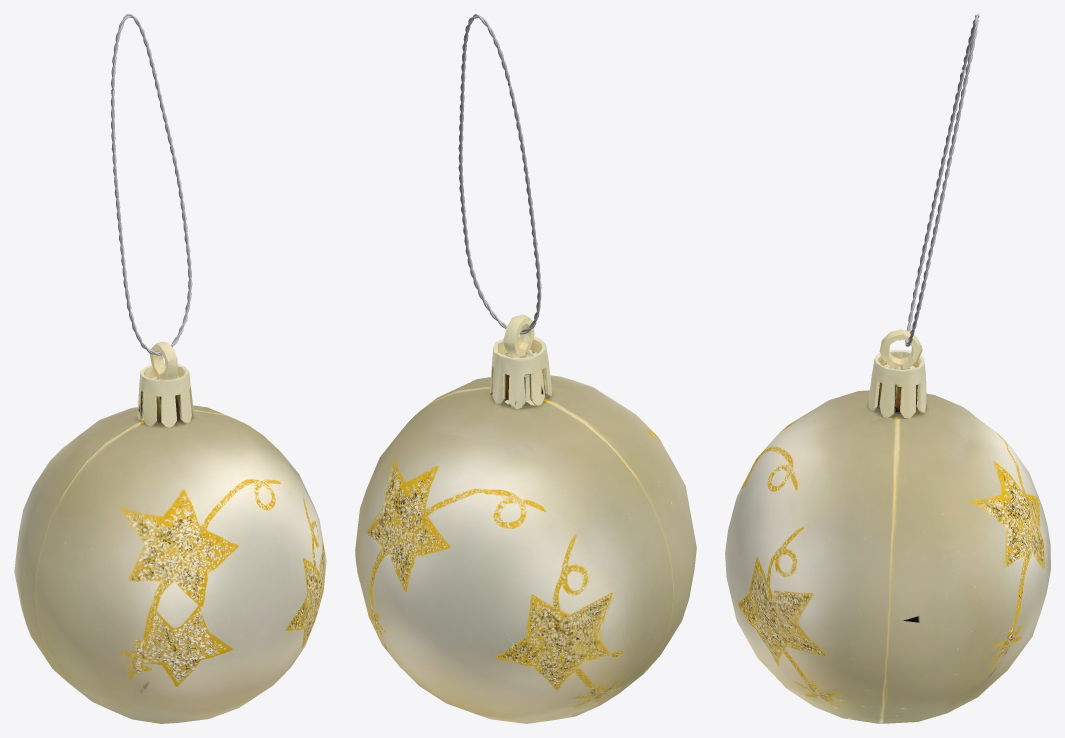
The model's file is Golden_Star_Orb.glb.
The picture shows the model from 3 angles, left to right: view 1: azimuth 30°, elevation 25°; view 2: azimuth 150°, elevation 25°; view 3: azimuth 270°, elevation 25°; orthographic projection. The views are drawn at different scales.
Parts seen in each view (by area): view 1: Mesh1.0, GN Instance; view 2: Mesh1.0, GN Instance; view 3: Mesh1.0, GN Instance.
Boxes of the visible parts, x1=… form: Mesh1.0: x1=14, y1=341, x2=326, y2=723; GN Instance: x1=110, y1=14, x2=192, y2=355; Mesh1.0: x1=355, y1=314, x2=696, y2=723; GN Instance: x1=458, y1=14, x2=541, y2=334; Mesh1.0: x1=725, y1=329, x2=1050, y2=723; GN Instance: x1=905, y1=14, x2=979, y2=346.
Bounding box in the file's own units: 0.0548 × 0.1285 × 0.0547.
2 materials, 1 textured.
